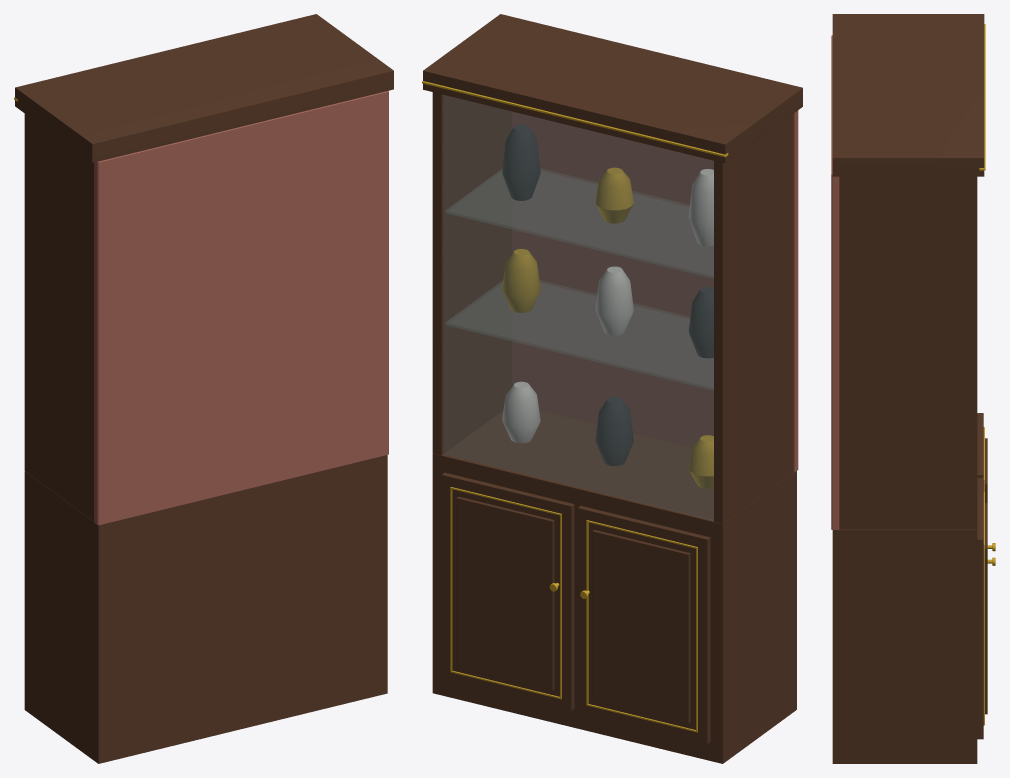
The model's file is prop_vitrine_decor.glb.
3 views of the same model, side by side, from view 1: azimuth 30°, elevation 25°; view 2: azimuth 150°, elevation 25°; view 3: azimuth 270°, elevation 25° (orthographic). The views are drawn at different scales.
Parts seen in each view (by area): view 1: Vitrine; view 2: Vitrine; view 3: Vitrine.
Boxes of the visible parts, left/top/right/bottom form: Vitrine: left=14, top=14, right=393, bottom=763; Vitrine: left=422, top=14, right=802, bottom=763; Vitrine: left=831, top=14, right=995, bottom=763.
Size of what is drawn, in the model's own units: 0.994 by 1.95 by 0.4767.
